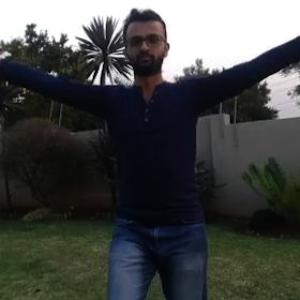takeoff: (1, 26, 300, 299)
